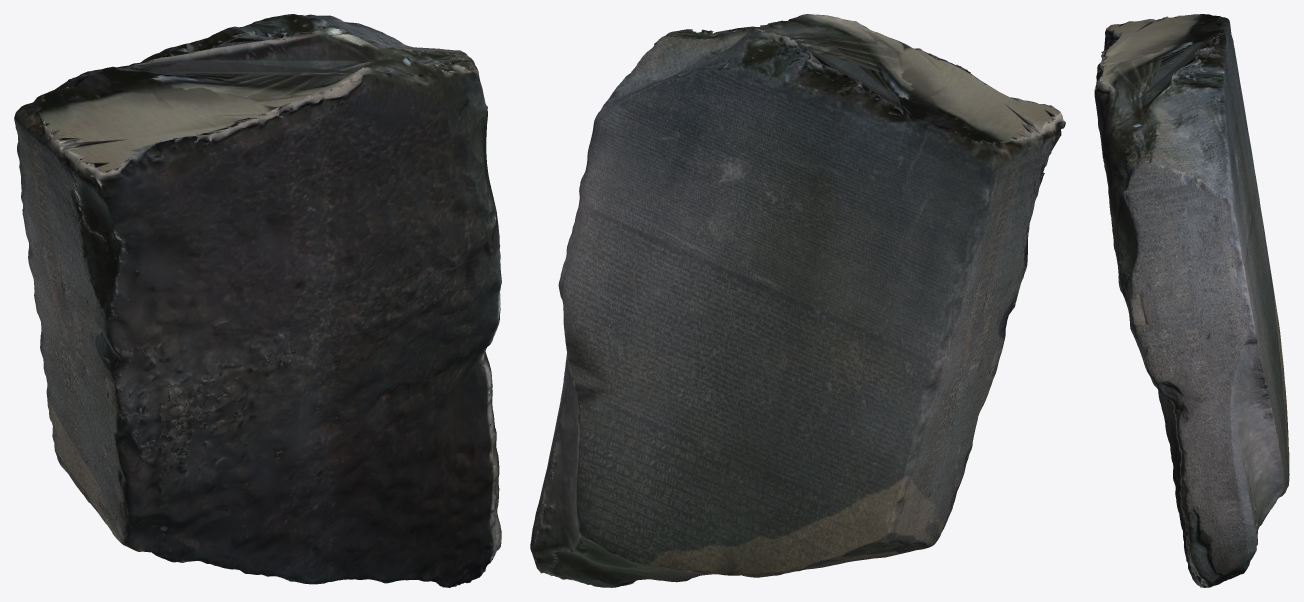
The model's file is pedra.glb.
The picture shows the model from 3 angles, left to right: view 1: azimuth 30°, elevation 25°; view 2: azimuth 150°, elevation 25°; view 3: azimuth 270°, elevation 25°; orthographic projection. The views are drawn at different scales.
Parts seen in each view (by area): view 1: Node; view 2: Node; view 3: Node.
Boxes of the visible parts, left/top/right/bottom form: Node: left=14, top=14, right=501, bottom=587; Node: left=530, top=14, right=1065, bottom=587; Node: left=1094, top=14, right=1289, bottom=587.
Size of the model in its own units: 13.78 by 16.76 by 6.68.
Materials: 1 (1 with a texture image).
